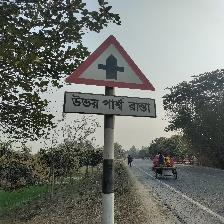Crossroad: (60, 31, 172, 122)
